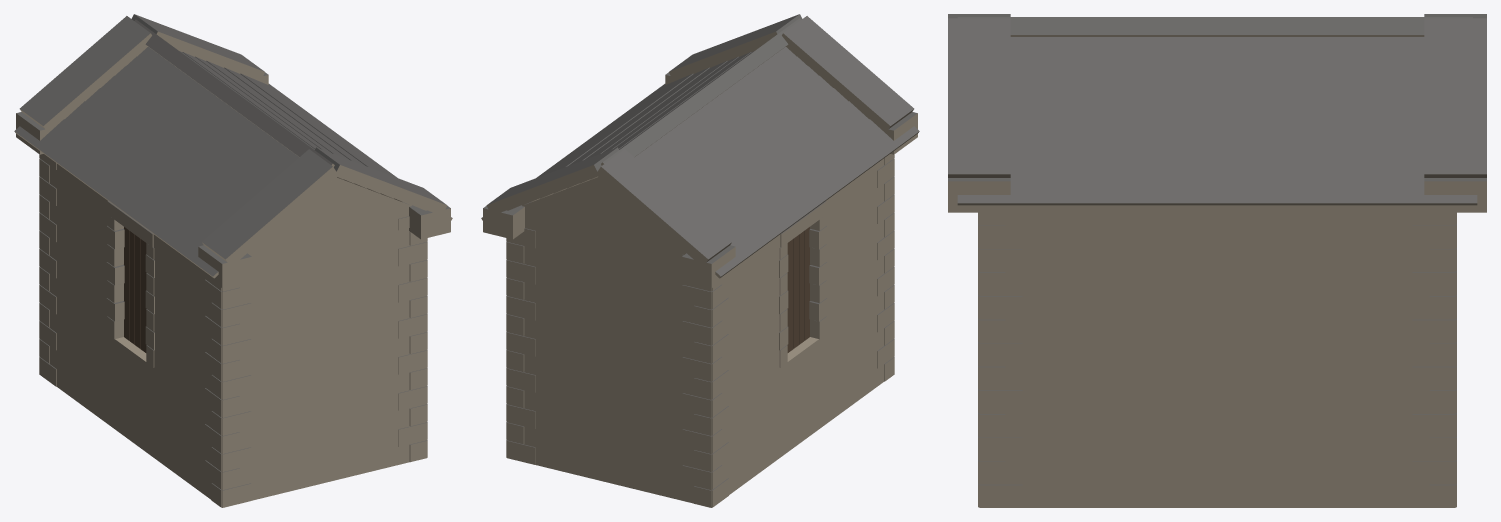
The model's file is context.dales.barn_04.glb.
3 renders of one model, left to right at view 1: azimuth 30°, elevation 25°; view 2: azimuth 150°, elevation 25°; view 3: azimuth 270°, elevation 25°, orthographic. The views are drawn at different scales.
Parts seen in each view (by area): view 1: main__stone_a98, main__slate_666, main__paint_654; view 2: main__stone_a98, main__slate_666, main__paint_654; view 3: main__stone_a98, main__slate_666.
Part boxes in pixels (left/top/right/bottom): main__stone_a98: left=14, top=31, right=452, bottom=507; main__slate_666: left=14, top=14, right=451, bottom=490; main__paint_654: left=124, top=227, right=146, bottom=352; main__stone_a98: left=481, top=31, right=919, bottom=507; main__slate_666: left=482, top=14, right=919, bottom=490; main__paint_654: left=787, top=227, right=809, bottom=352; main__stone_a98: left=948, top=35, right=1486, bottom=507; main__slate_666: left=948, top=14, right=1486, bottom=485.
Bounding box in the file's own units: 4.17 × 5.42 × 6.21.
